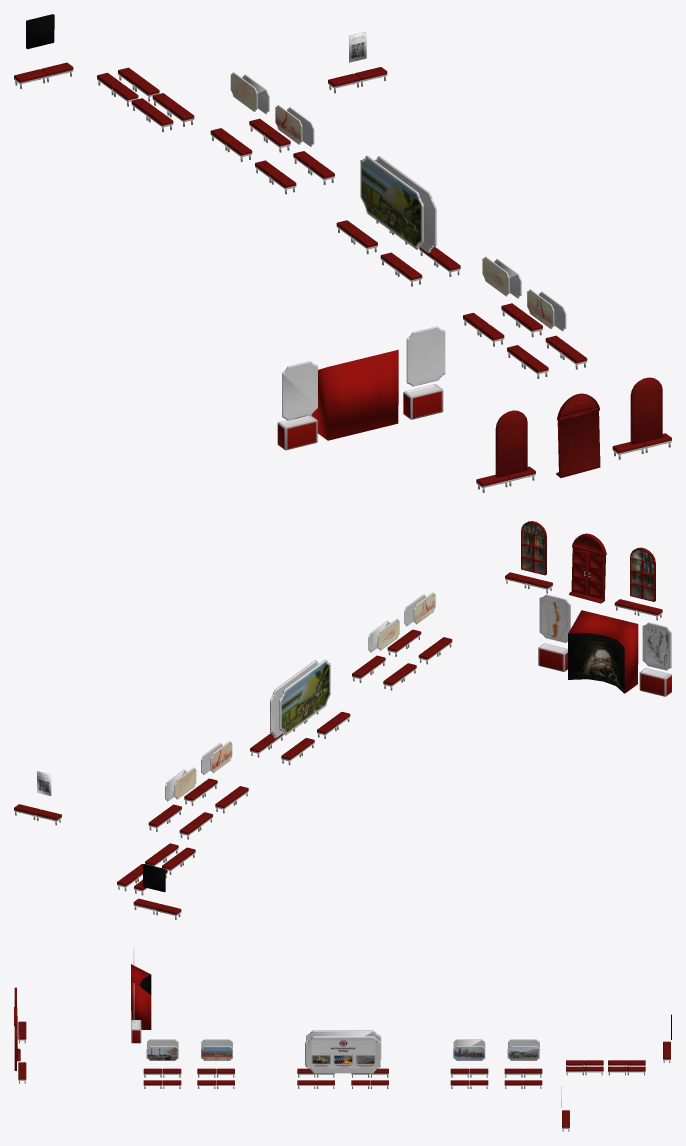
File: lavki.glb
The picture shows the model from 3 angles, top to bottom: view 1: azimuth 30°, elevation 25°; view 2: azimuth 150°, elevation 25°; view 3: azimuth 270°, elevation 25°; orthographic projection. The views are drawn at different scales.
Parts seen in each view (by area): view 1: дом.001; view 2: дом.001; view 3: дом.001.
Boxes of the visible parts, box(x1,y1,x2,y2) form: дом.001: box(14, 14, 671, 492); дом.001: box(14, 521, 671, 919); дом.001: box(14, 948, 671, 1131).
Bounding box in the file's own units: 41.27 × 7.44 × 84.53.
Materials: 1 (1 with a texture image).
